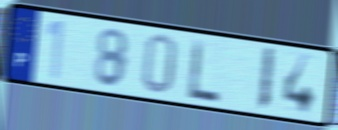0: (139, 32, 178, 97)
1: (45, 18, 65, 81)
4: (281, 52, 318, 118)
8: (92, 27, 130, 89)
I: (255, 45, 277, 114)
L: (187, 36, 222, 104)
